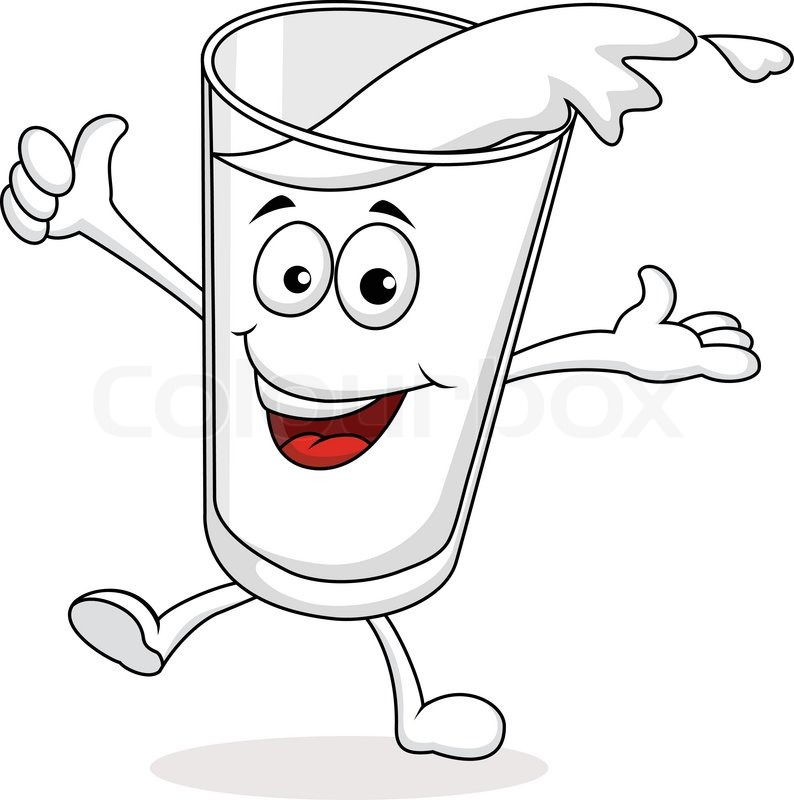glass of milk: (202, 11, 543, 625)
